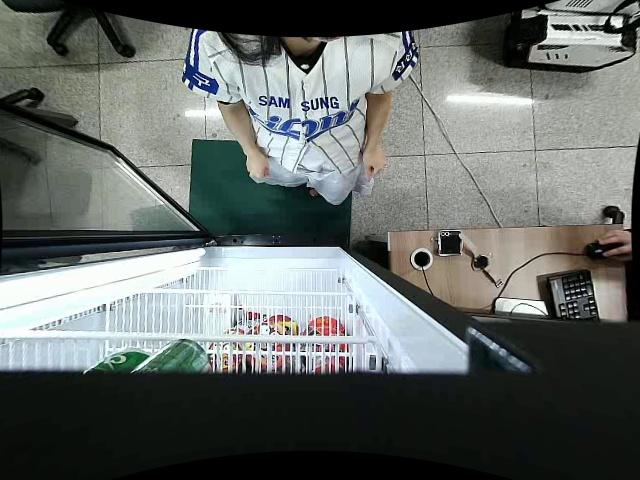00_hand: (243, 149, 271, 184), (362, 147, 387, 182)
